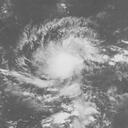cyclone: (34, 37, 94, 80)
